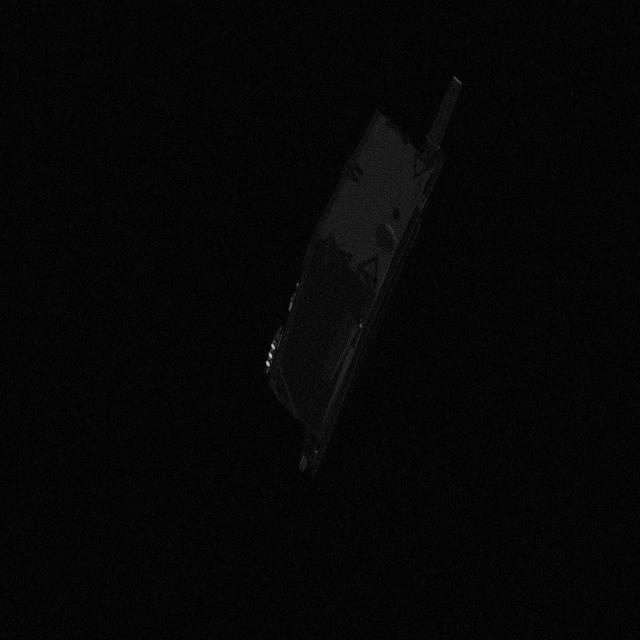medium_debris: (256, 78, 482, 496)
